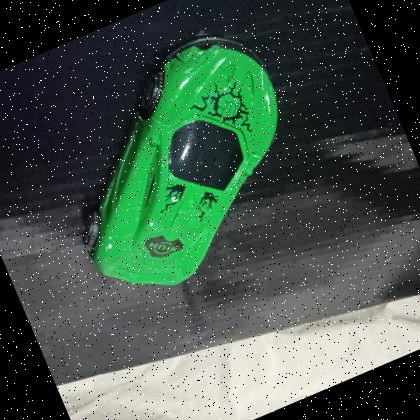Car: (85, 37, 278, 285)
